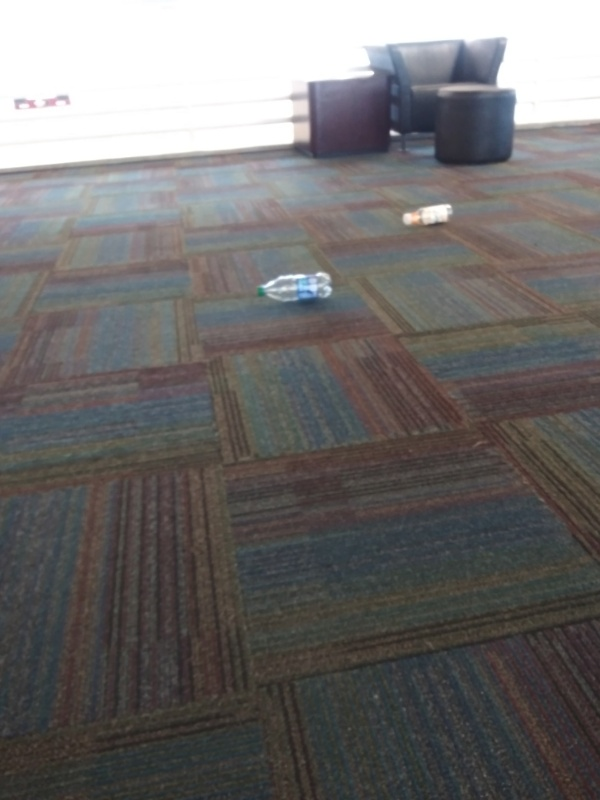bottle: (250, 270, 335, 306), (396, 198, 458, 233)
